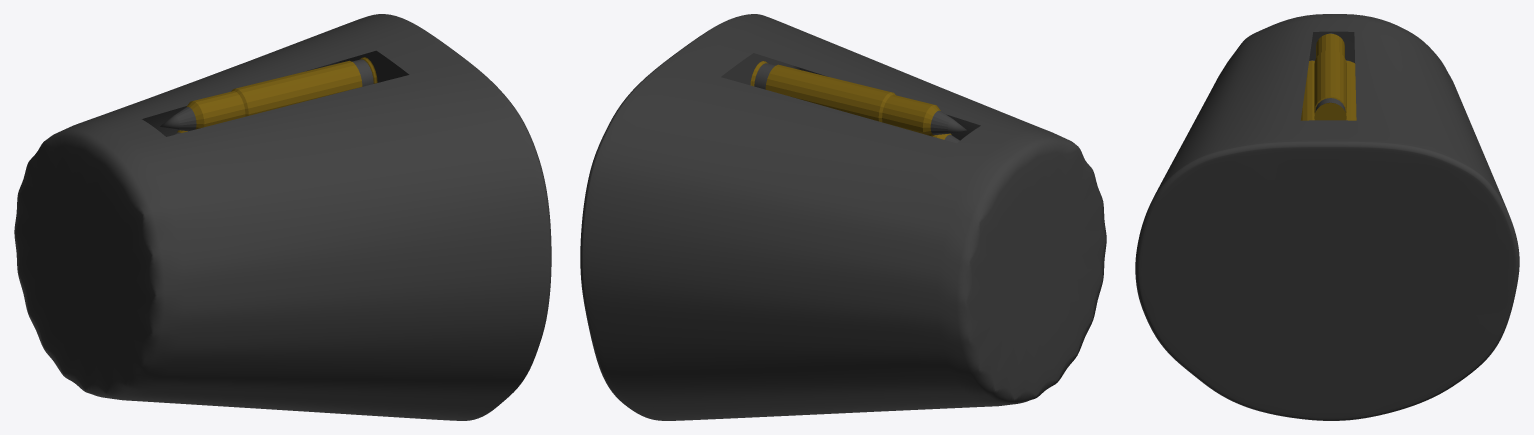
File: Magazine.fbx
The picture shows the model from 3 angles, left to right: view 1: azimuth 30°, elevation 25°; view 2: azimuth 150°, elevation 25°; view 3: azimuth 270°, elevation 25°; orthographic projection. The views are drawn at different scales.
Parts seen in each view (by area): view 1: polySurface147; view 2: polySurface147; view 3: polySurface147.
Part boxes in pixels (bbox=[...]): polySurface147: bbox=[14, 14, 551, 420]; polySurface147: bbox=[580, 14, 1106, 420]; polySurface147: bbox=[1135, 14, 1519, 420].
Bounding box in the file's own units: 6.86 × 6.21 × 7.24.
